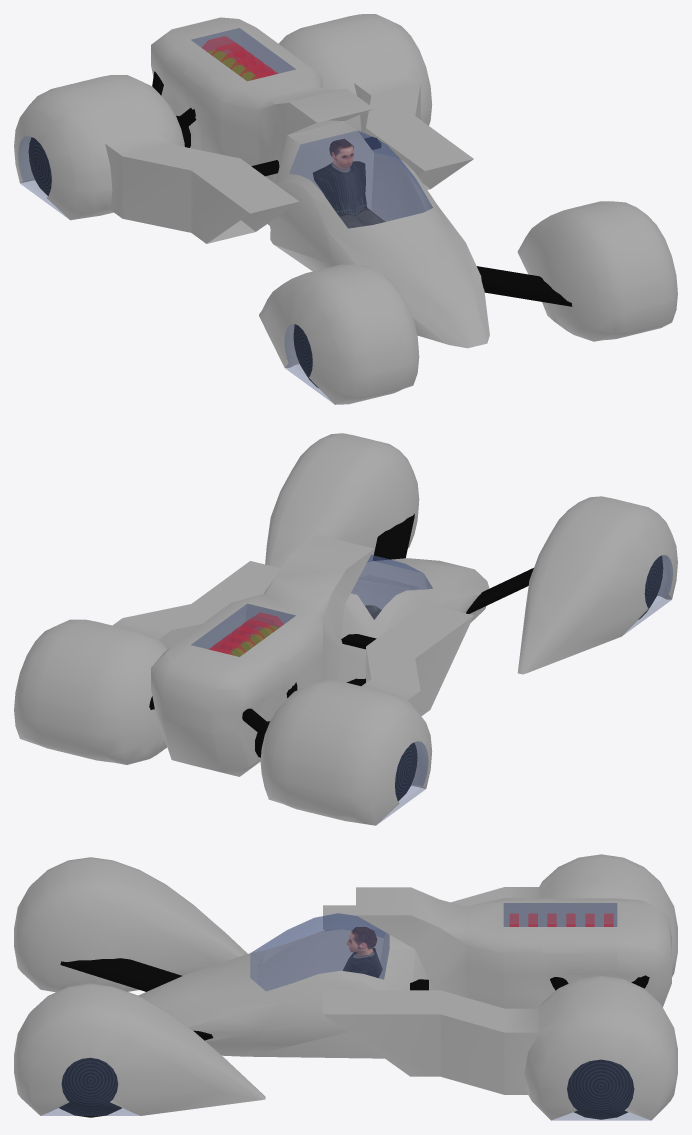
3 renders of one model, top to bottom at view 1: azimuth 30°, elevation 25°; view 2: azimuth 150°, elevation 25°; view 3: azimuth 270°, elevation 25°, orthographic.
Visible parts, largest first — view 1: BODY, ADDON_0, INTERIOR, WHEEL_2, WHEEL_0; view 2: BODY, INTERIOR, WHEEL_2, WHEEL_0; view 3: BODY, WHEEL_3, WHEEL_1, ADDON_0, INTERIOR.
Part boxes in pixels (x1,y1,x2,y2): BODY: [14, 14, 677, 404]; ADDON_0: [313, 139, 385, 228]; INTERIOR: [202, 36, 277, 81]; WHEEL_2: [28, 137, 51, 195]; WHEEL_0: [293, 324, 318, 387]; BODY: [14, 433, 677, 825]; INTERIOR: [209, 612, 283, 656]; WHEEL_2: [395, 742, 417, 801]; WHEEL_0: [638, 555, 663, 619]; BODY: [14, 854, 677, 1120]; WHEEL_3: [567, 1059, 634, 1119]; WHEEL_1: [59, 1057, 121, 1117]; ADDON_0: [343, 927, 382, 977]; INTERIOR: [509, 914, 613, 926].
Bounding box in the file's own units: 2.3 × 0.84 × 3.51.
10 materials, 10 textured.
